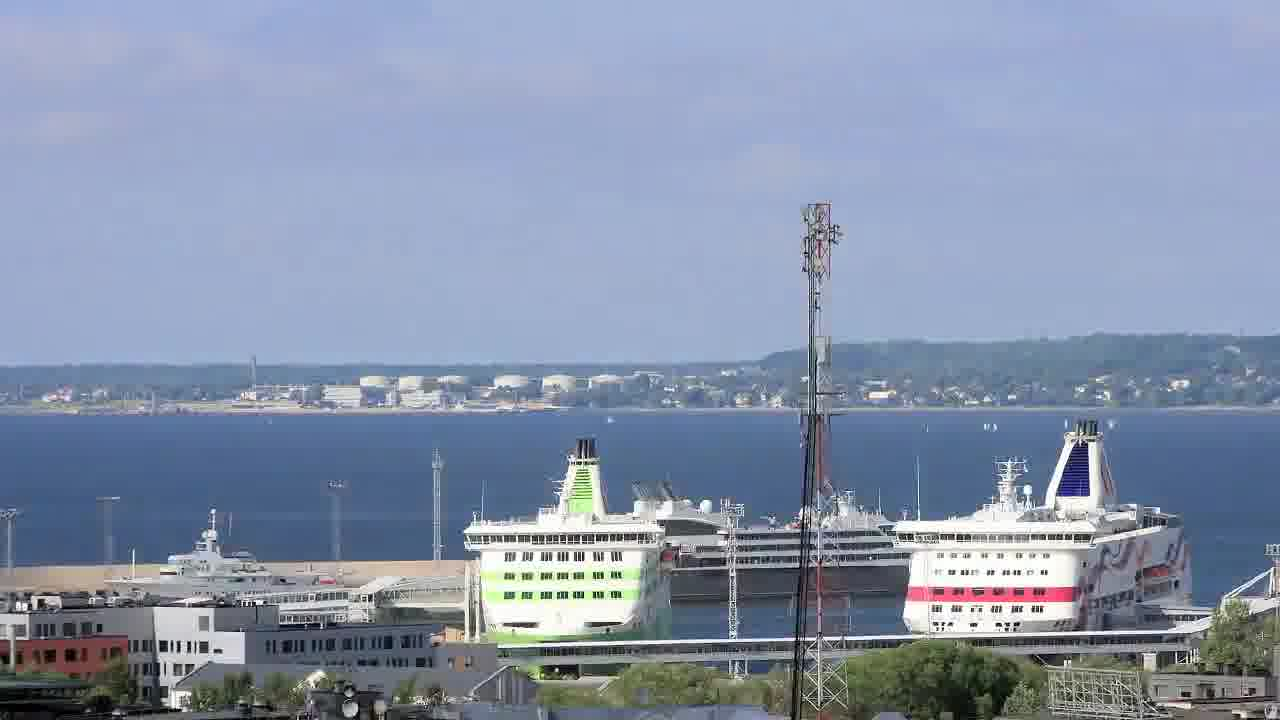type-3: (868, 415, 1225, 638), (436, 434, 694, 670), (569, 488, 912, 607), (90, 517, 329, 602)
